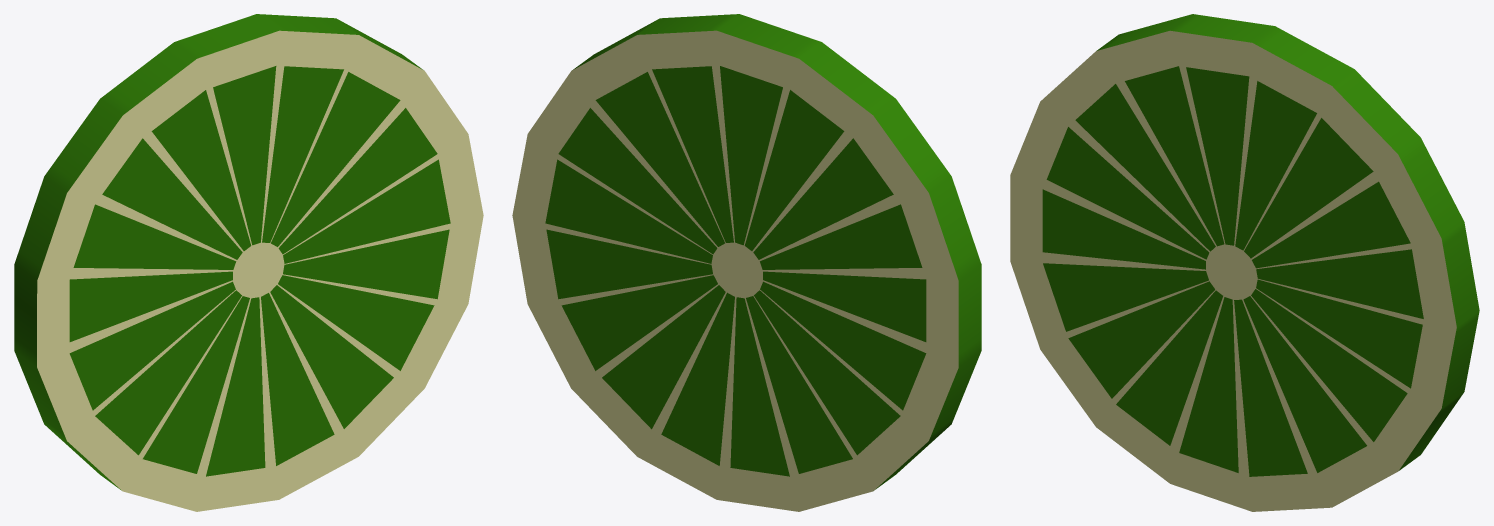
Rendered from lamelle_citron_vert.FBX.
3 views of the same model, side by side, from view 1: azimuth 30°, elevation 25°; view 2: azimuth 150°, elevation 25°; view 3: azimuth 330°, elevation 25° (orthographic).
Parts seen in each view (by area): view 1: Tranche_vert; view 2: Tranche_vert; view 3: Tranche_vert.
Part boxes in pixels (<box>): Tranche_vert: <box>14,14,483,511</box>; Tranche_vert: <box>512,14,981,511</box>; Tranche_vert: <box>1010,14,1479,511</box>.
Bounding box in the file's own units: 46.45 × 46.65 × 4.14.
